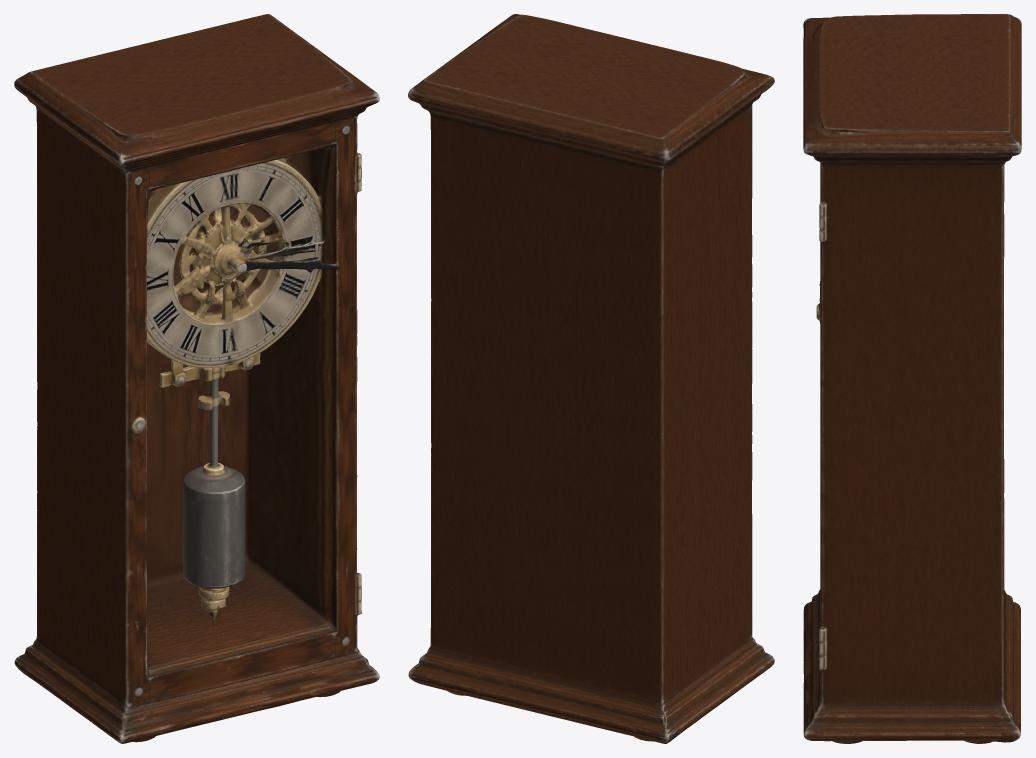
File: prop_regulator_clock.glb
The picture shows the model from 3 angles, left to right: view 1: azimuth 30°, elevation 25°; view 2: azimuth 150°, elevation 25°; view 3: azimuth 270°, elevation 25°; orthographic projection.
Bounding box in the file's own units: 0.8473 × 1.9 × 0.6079.
Materials: 1 (1 with a texture image).
